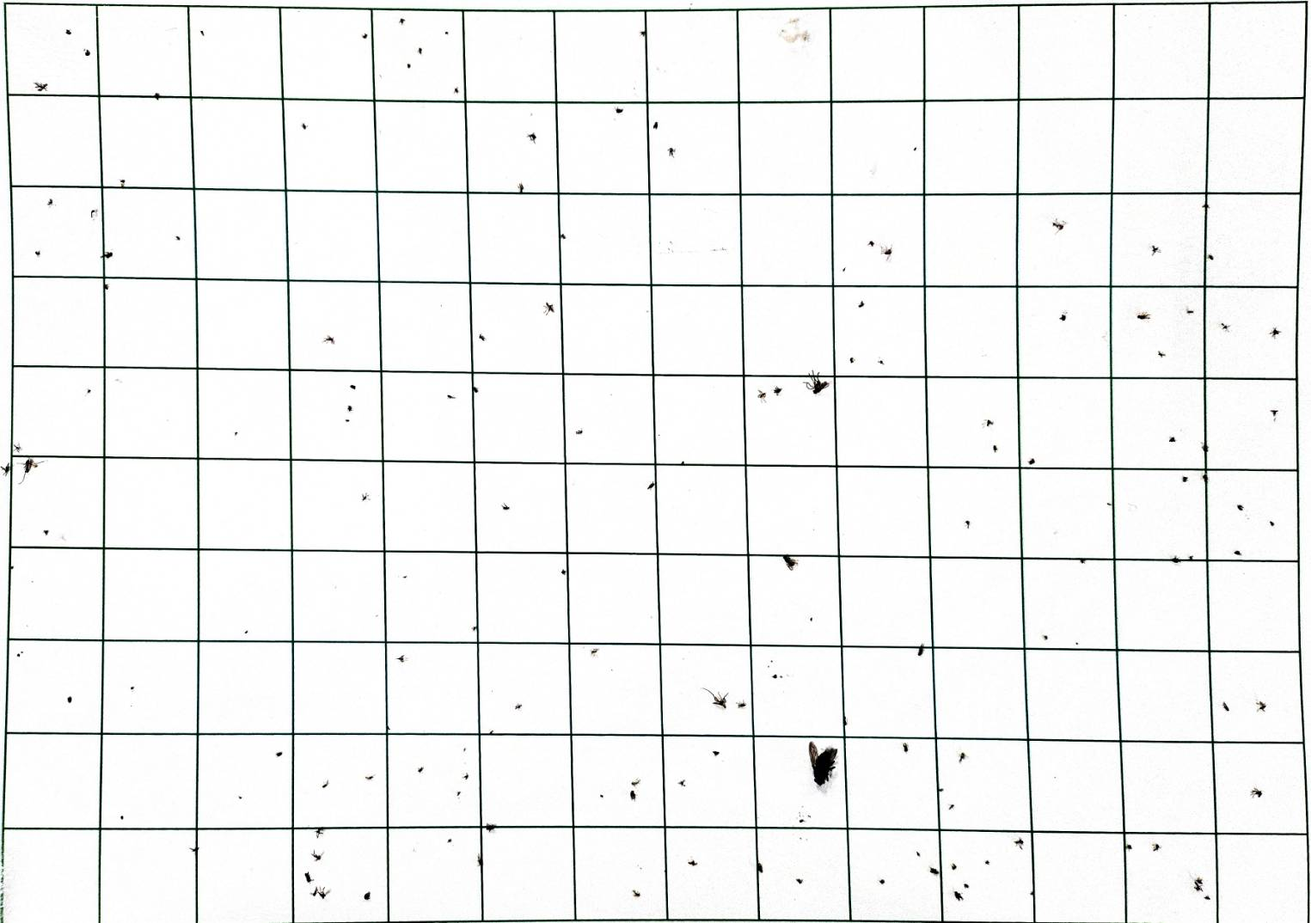fly: (808, 740, 838, 787), (804, 369, 830, 395)
test: (701, 686, 729, 708), (782, 554, 798, 570), (879, 243, 893, 261), (23, 458, 36, 474), (1052, 218, 1067, 231), (1192, 875, 1204, 891), (310, 849, 323, 861), (1268, 326, 1281, 338), (1136, 310, 1151, 320), (34, 82, 49, 92), (543, 301, 554, 314), (484, 821, 497, 832), (1250, 786, 1263, 797), (318, 887, 331, 898), (314, 826, 325, 838), (1013, 836, 1024, 848), (1257, 699, 1268, 711), (1, 463, 12, 475), (757, 389, 768, 400), (953, 889, 964, 900), (304, 870, 314, 882), (917, 642, 926, 655), (527, 132, 537, 143), (1150, 245, 1161, 255), (958, 751, 968, 762), (322, 335, 334, 344), (100, 251, 113, 259), (773, 385, 783, 395), (1151, 841, 1161, 851), (1222, 700, 1231, 711), (14, 441, 23, 452), (1270, 409, 1279, 420), (476, 852, 483, 866), (1171, 554, 1181, 563), (1201, 442, 1210, 452), (630, 777, 640, 786), (1221, 322, 1231, 331), (929, 865, 939, 874), (667, 147, 676, 157), (629, 788, 637, 799), (757, 860, 764, 872), (478, 333, 487, 342), (647, 481, 656, 490), (1059, 312, 1068, 321), (361, 492, 370, 501), (632, 888, 641, 897), (397, 654, 407, 662), (517, 183, 525, 193), (688, 857, 698, 865), (363, 890, 371, 900), (736, 700, 746, 708), (90, 209, 98, 219), (312, 884, 318, 897), (501, 502, 510, 510), (985, 418, 994, 426), (321, 779, 329, 788), (590, 647, 599, 655), (1186, 307, 1195, 315), (902, 741, 909, 751), (188, 845, 198, 852), (857, 300, 865, 308), (678, 778, 686, 786), (83, 49, 91, 57), (559, 232, 567, 240), (153, 92, 161, 100), (1202, 202, 1210, 210), (514, 702, 522, 709), (462, 771, 469, 779), (1168, 435, 1176, 442), (1207, 253, 1214, 261), (867, 240, 875, 247), (1027, 457, 1035, 464), (652, 121, 659, 129), (1181, 475, 1189, 482), (1158, 350, 1166, 357), (47, 198, 54, 206), (1237, 503, 1245, 510), (119, 179, 126, 187), (1201, 473, 1208, 481), (65, 29, 73, 36), (950, 861, 957, 869), (16, 650, 24, 657), (1125, 842, 1132, 850), (1080, 557, 1087, 565), (447, 393, 456, 399), (365, 773, 374, 779), (615, 107, 624, 113), (964, 519, 970, 528), (1233, 549, 1242, 555), (795, 877, 804, 883), (576, 428, 583, 435), (417, 765, 424, 772), (301, 123, 308, 130), (1042, 633, 1049, 640), (948, 802, 955, 809), (879, 877, 886, 884), (399, 18, 406, 25), (992, 444, 998, 452), (347, 404, 353, 412), (275, 750, 283, 756), (876, 359, 884, 365), (473, 386, 479, 393), (849, 356, 855, 363), (712, 749, 719, 755), (561, 568, 567, 575), (67, 695, 73, 702), (1269, 519, 1275, 526), (454, 87, 460, 94), (43, 528, 50, 534), (35, 250, 41, 257), (640, 30, 646, 37), (488, 730, 495, 736), (470, 626, 477, 632), (915, 850, 921, 857), (104, 282, 109, 290), (418, 47, 423, 55), (1203, 894, 1211, 899), (129, 686, 137, 691), (86, 388, 92, 394), (362, 33, 368, 39), (456, 791, 462, 797), (598, 793, 604, 799), (938, 787, 944, 793), (963, 883, 969, 889), (349, 384, 356, 389), (199, 29, 204, 36), (175, 235, 181, 240), (984, 859, 990, 864), (407, 63, 412, 69), (447, 838, 452, 844), (237, 795, 243, 800), (1029, 891, 1035, 896), (809, 617, 814, 623), (1188, 555, 1193, 561), (1106, 502, 1112, 507), (1075, 641, 1080, 647), (841, 266, 847, 271), (402, 575, 409, 579), (798, 819, 805, 823), (119, 814, 124, 819), (244, 630, 249, 635), (772, 674, 777, 679), (234, 432, 239, 436), (345, 418, 349, 423), (445, 31, 449, 36), (913, 147, 916, 151)
